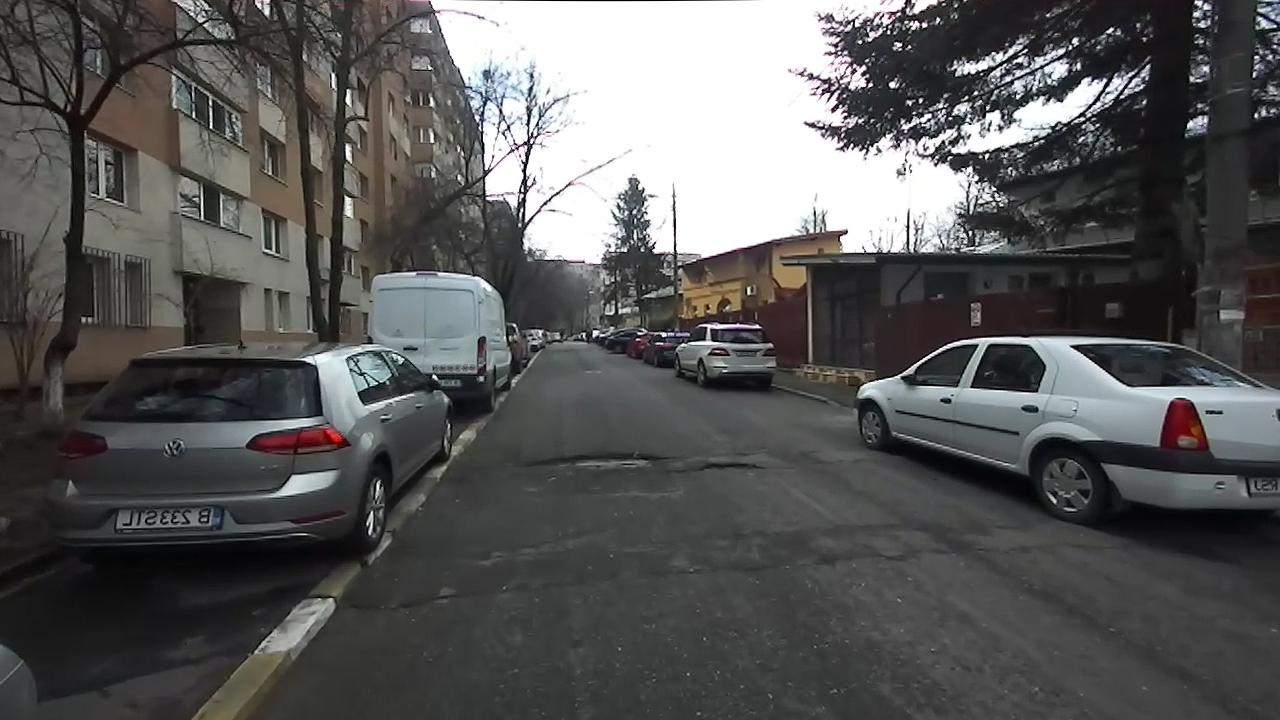pothole: (508, 446, 665, 478), (352, 589, 463, 617), (675, 457, 768, 479)
